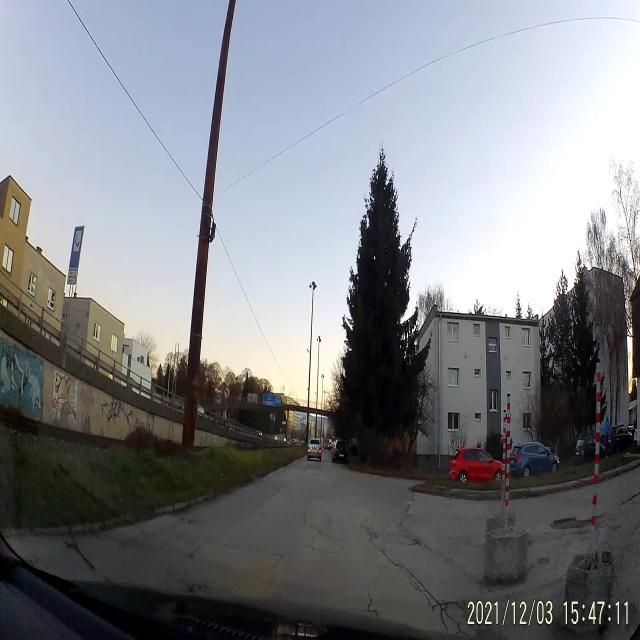Pothole: (548, 502, 588, 540)
